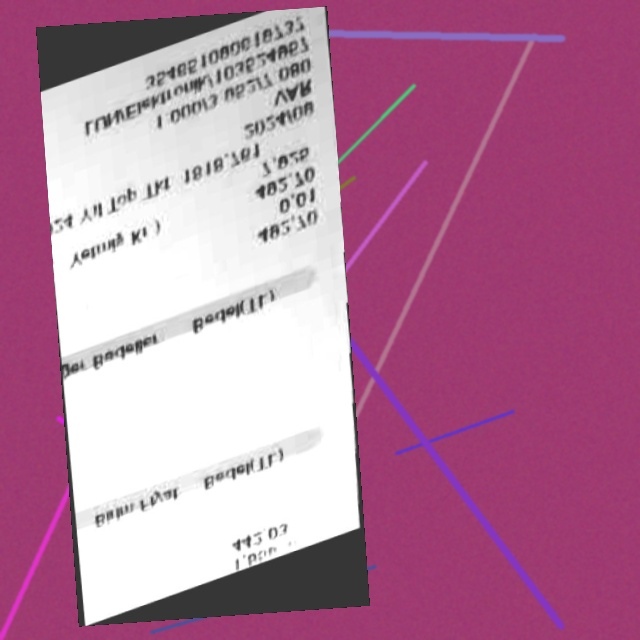electricity-bill: (35, 5, 369, 627)
